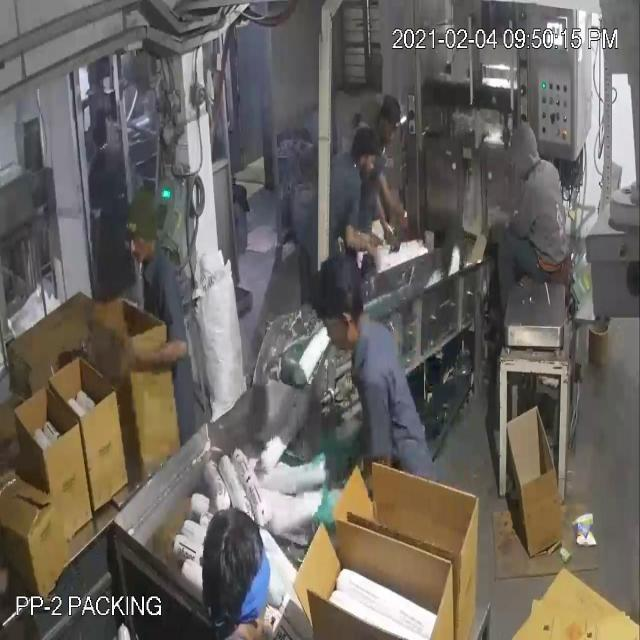No_Gloves: (40, 44, 391, 352)
